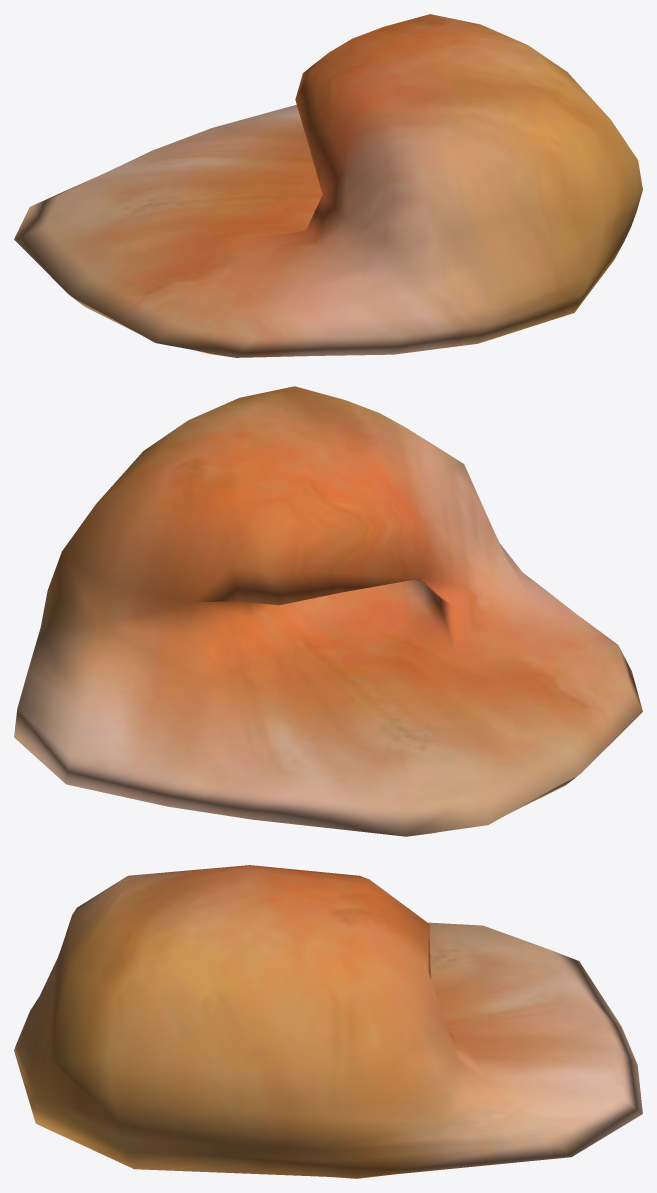
File: Tonnidae_Shell.fbx
3 renders of one model, top to bottom at view 1: azimuth 30°, elevation 25°; view 2: azimuth 150°, elevation 25°; view 3: azimuth 270°, elevation 25°, orthographic. The views are drawn at different scales.
Parts seen in each view (by area): view 1: BugBook; view 2: BugBook; view 3: BugBook.
Boxes of the visible parts, x1,y1,x2,y2 form: BugBook: (14, 14, 642, 357); BugBook: (14, 386, 642, 836); BugBook: (14, 865, 642, 1178).
Size of the model in its own units: 0.7249 by 0.312 by 0.7305.
